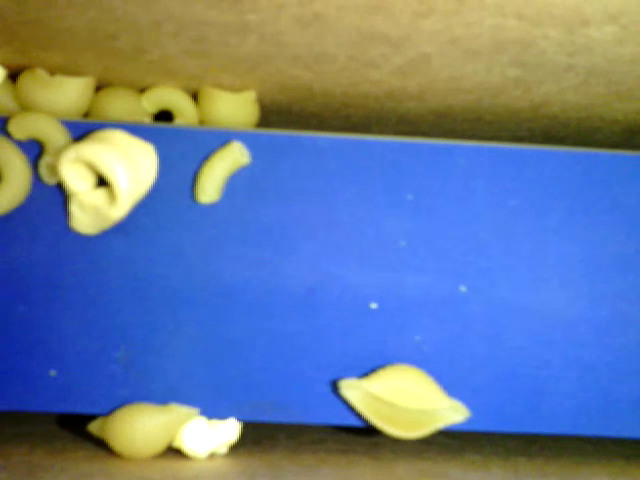elbow: (6, 112, 77, 187), (190, 138, 247, 205), (143, 84, 201, 127)
shell: (330, 360, 472, 439), (86, 401, 202, 459), (18, 64, 95, 124), (199, 83, 264, 130), (91, 87, 154, 124)
tortellini: (57, 128, 158, 235)
